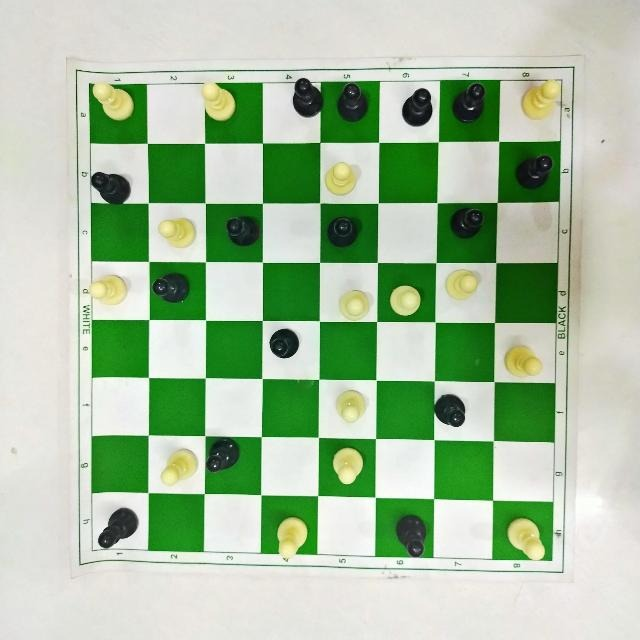black-pawn: (388, 508, 437, 562), (91, 506, 145, 552), (87, 165, 134, 211), (446, 201, 490, 245), (449, 79, 490, 126), (147, 268, 195, 308), (515, 151, 557, 195), (220, 209, 264, 250), (335, 80, 374, 122), (203, 433, 245, 472), (288, 79, 328, 119), (434, 390, 472, 432), (326, 211, 366, 250), (403, 85, 437, 129), (266, 325, 304, 361)
white-pawn: (87, 77, 142, 127), (503, 513, 551, 566), (521, 74, 565, 126), (155, 209, 203, 254), (197, 77, 241, 126), (270, 510, 309, 562), (329, 440, 371, 487), (330, 383, 371, 430), (442, 261, 485, 304), (501, 342, 545, 384), (154, 446, 198, 488), (386, 279, 428, 322), (319, 159, 361, 197), (335, 284, 375, 323), (87, 272, 132, 306)
